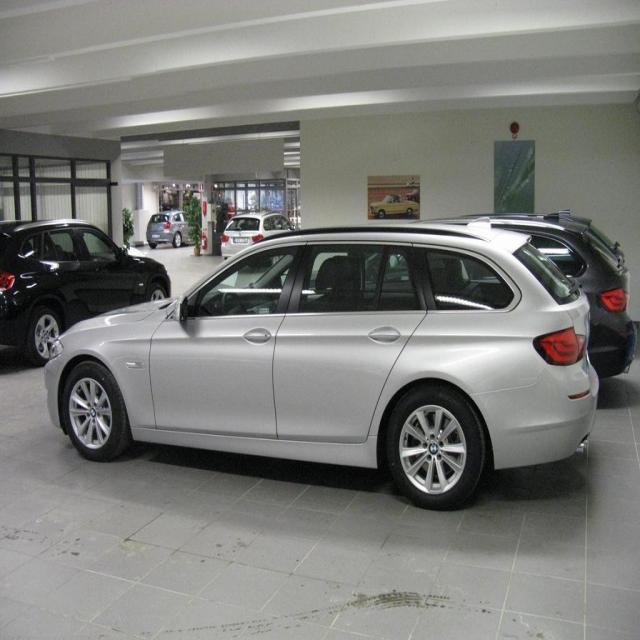other: (18, 216, 610, 516), (413, 210, 636, 378), (0, 220, 174, 372), (220, 210, 292, 258), (145, 207, 199, 246)
